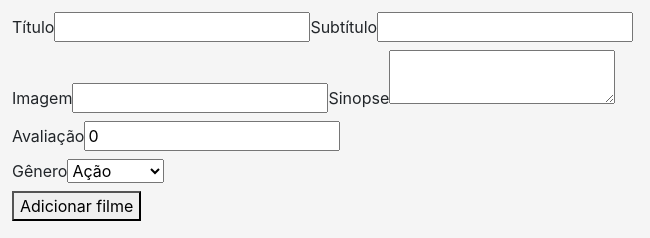
Test case: Verifica o input de avaliação do componente <AddMovie /> › Será validado se o valor do input de avaliação muda quando algo é digitado por quem usa
Type "1.5" into the number field with test id "rating-input".
click(212, 136); type("1.5")  # box 84,121 -> 340,151
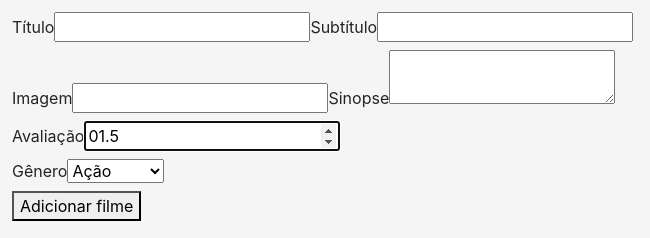
Check: the number field with test id "rating-input" holds "1.5", box 84,121 -> 340,151
